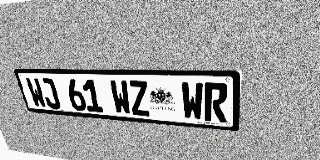1: (80, 79, 104, 113)
6: (64, 79, 88, 111)
J: (39, 78, 62, 109)
R: (204, 82, 228, 122)
W: (181, 82, 204, 121), (109, 80, 132, 115), (25, 78, 48, 108)
Z: (128, 80, 151, 116)
